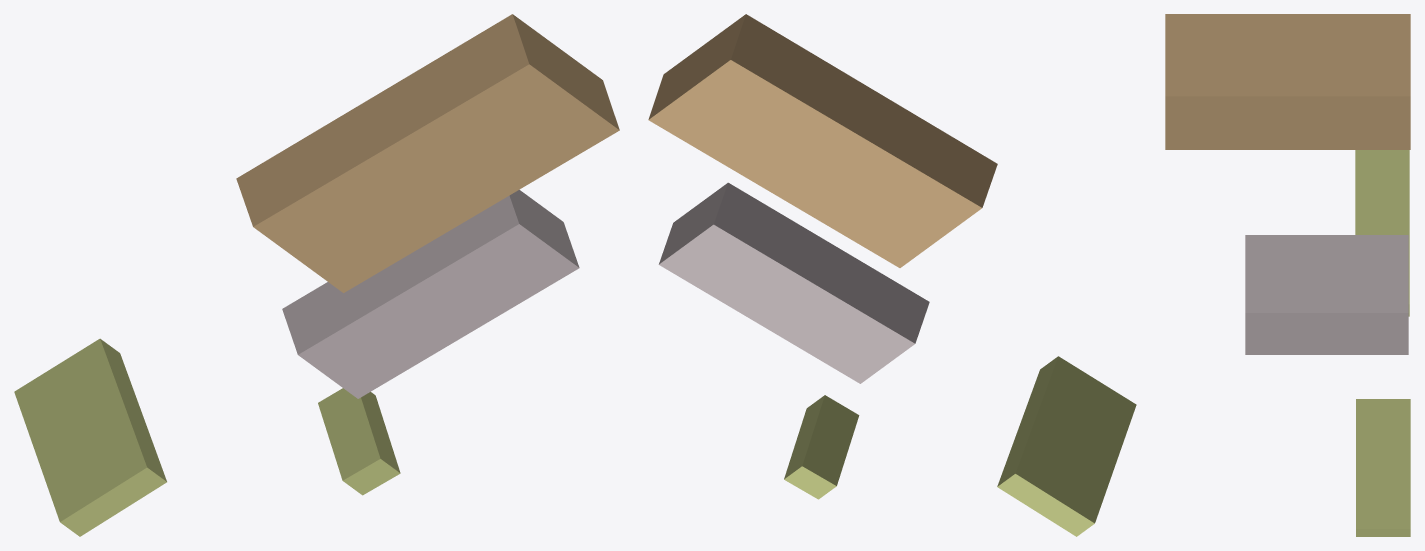
3 renders of one model, left to right at view 1: azimuth 30°, elevation 25°; view 2: azimuth 150°, elevation 25°; view 3: azimuth 270°, elevation 25°, orthographic. The views are drawn at different scales.
Visible parts, largest first — view 1: 0_0_1_1_3_2_3_3; view 2: 0_0_1_1_3_2_3_3; view 3: 0_0_1_1_3_2_3_3.
Part boxes in pixels (bbox=[...]): 0_0_1_1_3_2_3_3: bbox=[14, 14, 619, 536]; 0_0_1_1_3_2_3_3: bbox=[648, 14, 1136, 536]; 0_0_1_1_3_2_3_3: bbox=[1165, 14, 1410, 536].
Bounding box in the file's own units: 88.82 × 70.02 × 27.
